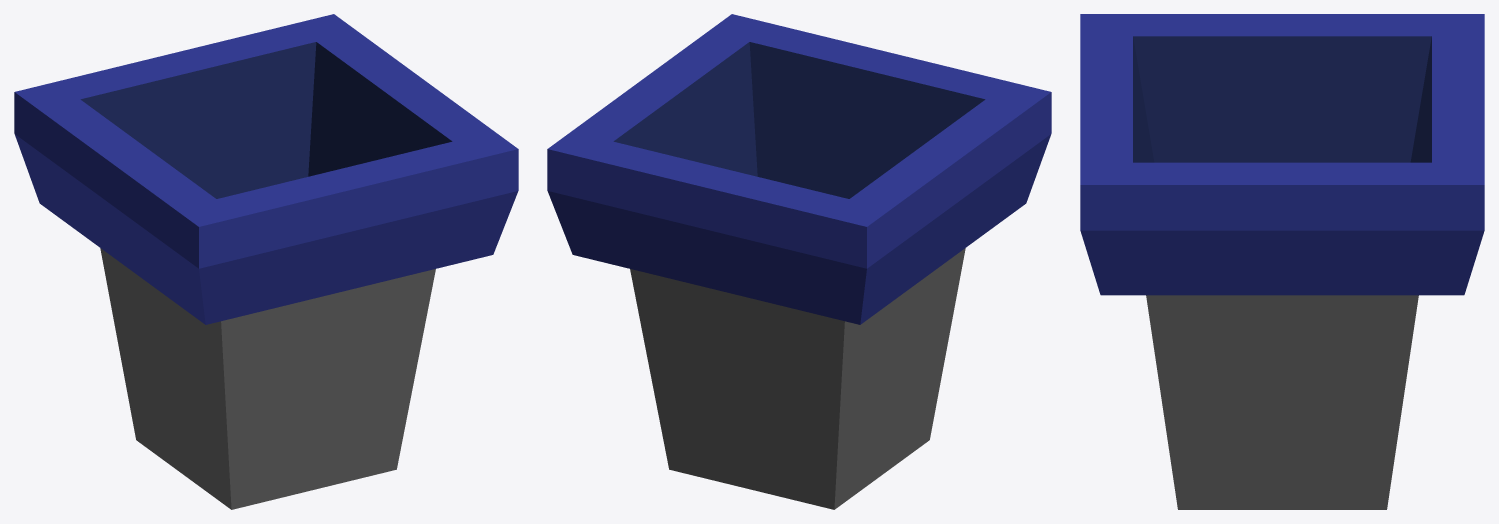
The model's file is Trash_Counter.fbx.
3 views of the same model, side by side, from view 1: azimuth 30°, elevation 25°; view 2: azimuth 150°, elevation 25°; view 3: azimuth 270°, elevation 25° (orthographic). The views are drawn at different scales.
Parts seen in each view (by area): view 1: Plane; view 2: Plane; view 3: Plane.
Boxes of the visible parts, left/top/right/bottom form: Plane: left=14, top=14, right=518, bottom=509; Plane: left=547, top=14, right=1051, bottom=509; Plane: left=1080, top=14, right=1484, bottom=509.
Bounding box in the file's own units: 1 × 1 × 1.
